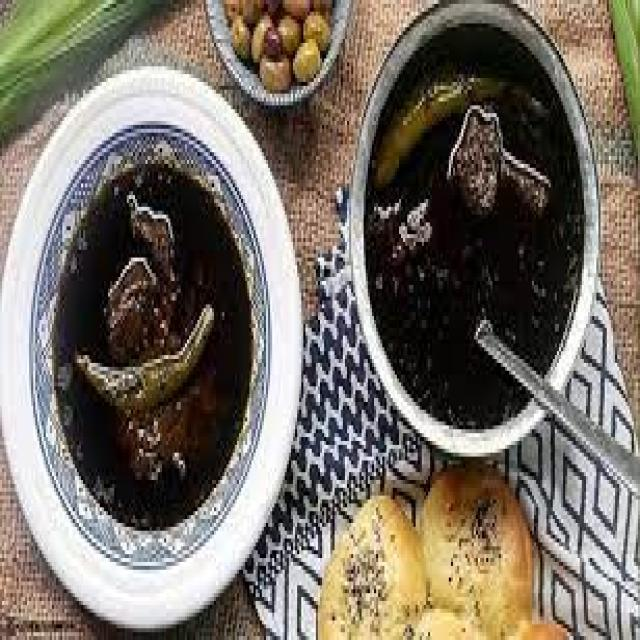Melloukhia: (42, 75, 276, 568), (354, 0, 612, 438)
